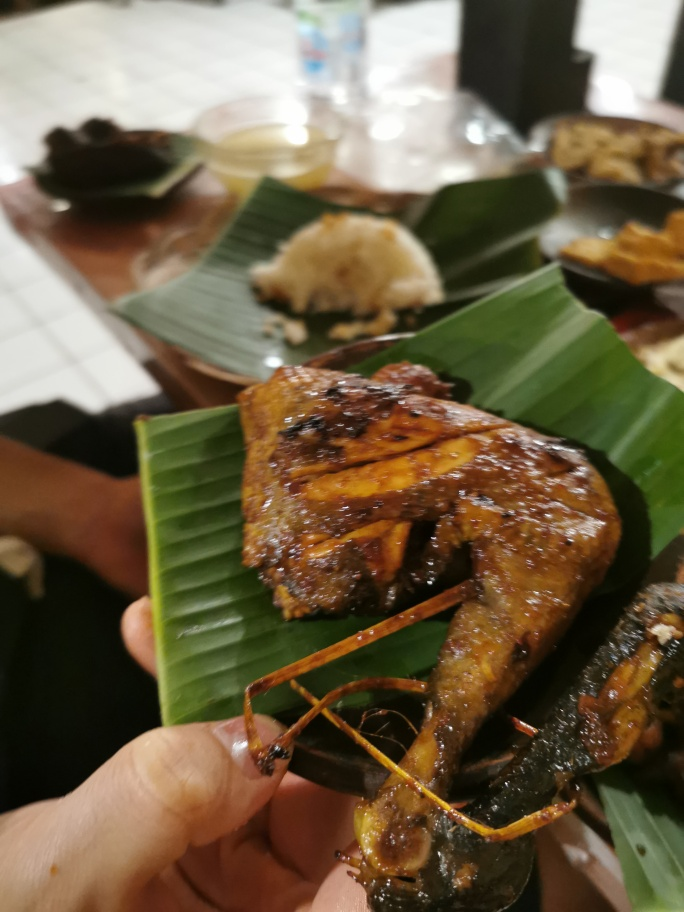ayam bakar: (231, 377, 684, 906)
